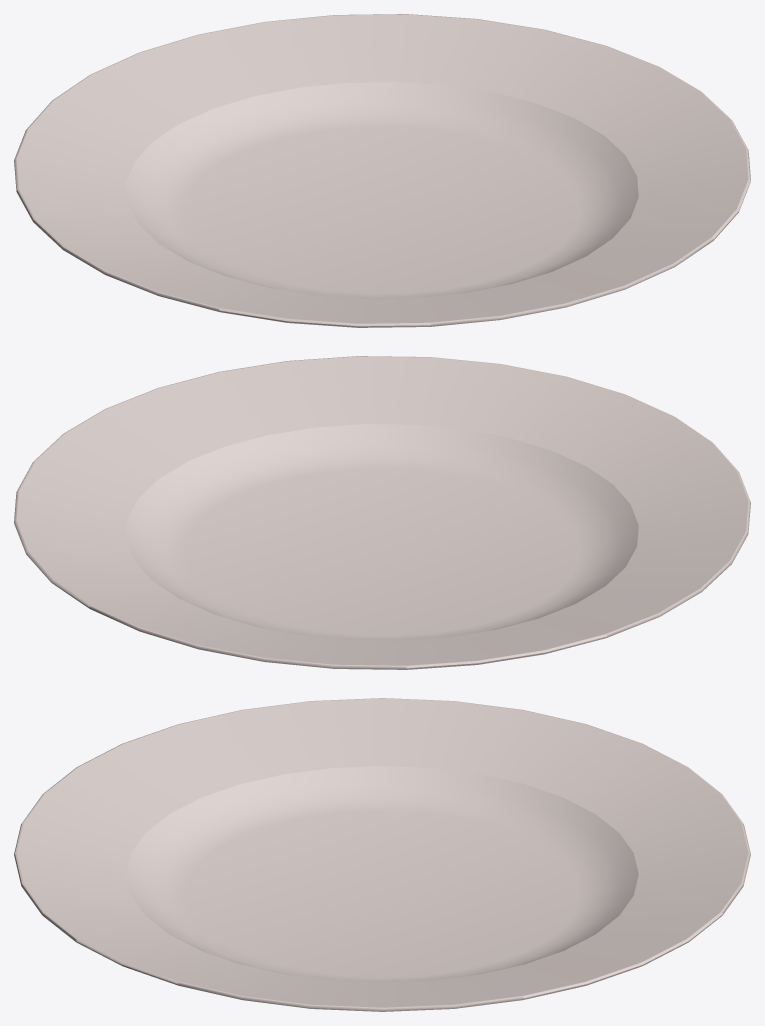
The model's file is Tabak.fbx.
The picture shows the model from 3 angles, top to bottom: view 1: azimuth 30°, elevation 25°; view 2: azimuth 150°, elevation 25°; view 3: azimuth 270°, elevation 25°; orthographic projection.
Visible parts, largest first — view 1: Tabak.001; view 2: Tabak.001; view 3: Tabak.001.
Part boxes in pixels (left/top/right/bottom): Tabak.001: left=14, top=14, right=750, bottom=327; Tabak.001: left=14, top=356, right=750, bottom=669; Tabak.001: left=14, top=698, right=750, bottom=1011.
Size of the model in its own units: 0.3572 by 0.024 by 0.3572.
